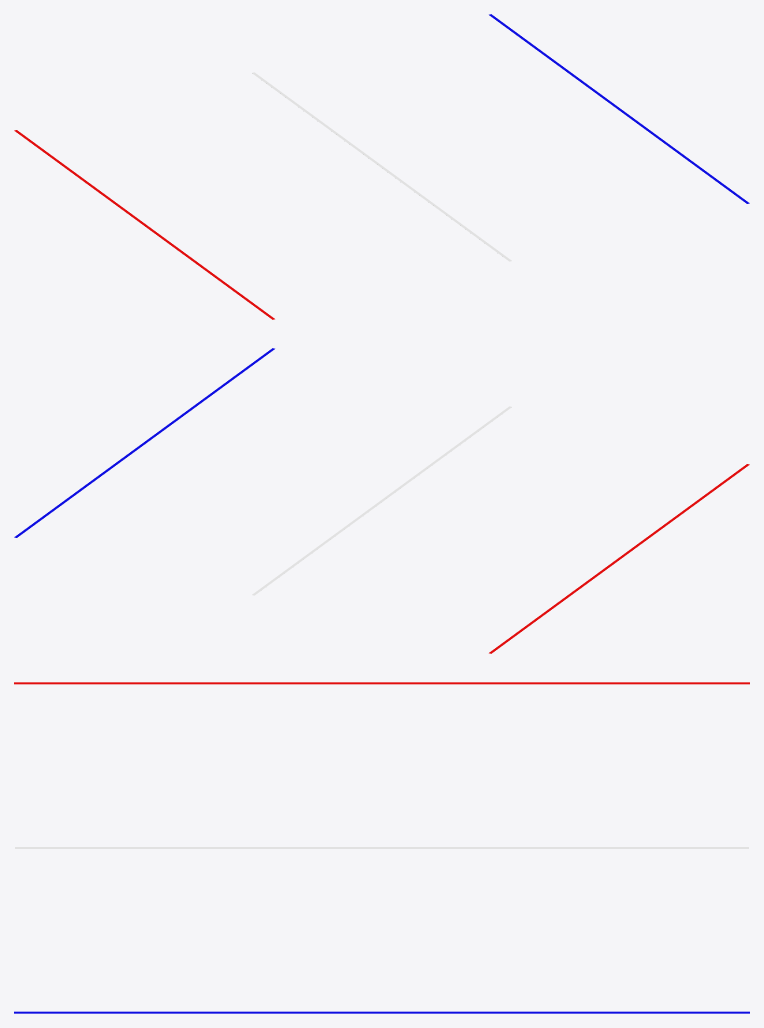
File: Tape Lines.fbx
3 renders of one model, top to bottom at view 1: azimuth 30°, elevation 25°; view 2: azimuth 150°, elevation 25°; view 3: azimuth 270°, elevation 25°, orthographic. The views are drawn at different scales.
Visible parts, largest first — view 1: Gaffer Tape, White, 2in Wide, 316.19in Long, Gaffer Tape, Blue, 2in Wide, 317.19in Long, Gaffer Tape, Red, 2in Wide, 317.19in Long; view 2: Gaffer Tape, White, 2in Wide, 316.19in Long, Gaffer Tape, Blue, 2in Wide, 317.19in Long, Gaffer Tape, Red, 2in Wide, 317.19in Long; view 3: Gaffer Tape, Blue, 2in Wide, 317.19in Long, Gaffer Tape, Red, 2in Wide, 317.19in Long, Gaffer Tape, White, 2in Wide, 316.19in Long.
Boxes of the visible parts, x1=… form: Gaffer Tape, White, 2in Wide, 316.19in Long: x1=252, y1=72, x2=511, y2=261; Gaffer Tape, Blue, 2in Wide, 317.19in Long: x1=489, y1=14, x2=749, y2=203; Gaffer Tape, Red, 2in Wide, 317.19in Long: x1=14, y1=130, x2=274, y2=319; Gaffer Tape, White, 2in Wide, 316.19in Long: x1=252, y1=406, x2=511, y2=595; Gaffer Tape, Blue, 2in Wide, 317.19in Long: x1=14, y1=348, x2=274, y2=537; Gaffer Tape, Red, 2in Wide, 317.19in Long: x1=489, y1=464, x2=749, y2=653; Gaffer Tape, Blue, 2in Wide, 317.19in Long: x1=14, y1=1011, x2=749, y2=1013; Gaffer Tape, Red, 2in Wide, 317.19in Long: x1=14, y1=682, x2=749, y2=684; Gaffer Tape, White, 2in Wide, 316.19in Long: x1=15, y1=847, x2=748, y2=848.
Bounding box in the file's own units: 859 × 0.0255 × 806.
